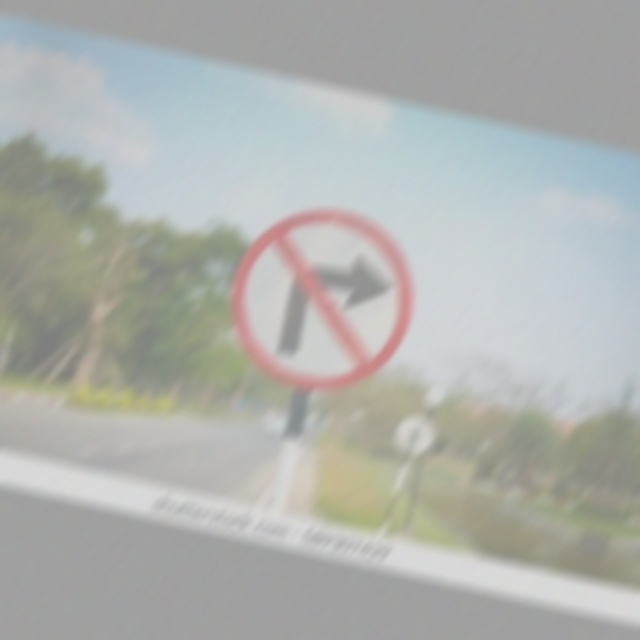Right_Turn_Prohibited: (213, 192, 431, 410)
